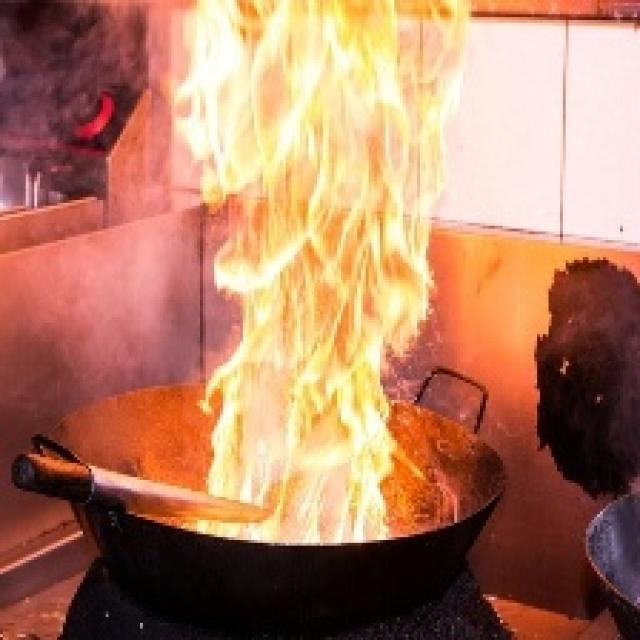Fire: (157, 1, 472, 542)
